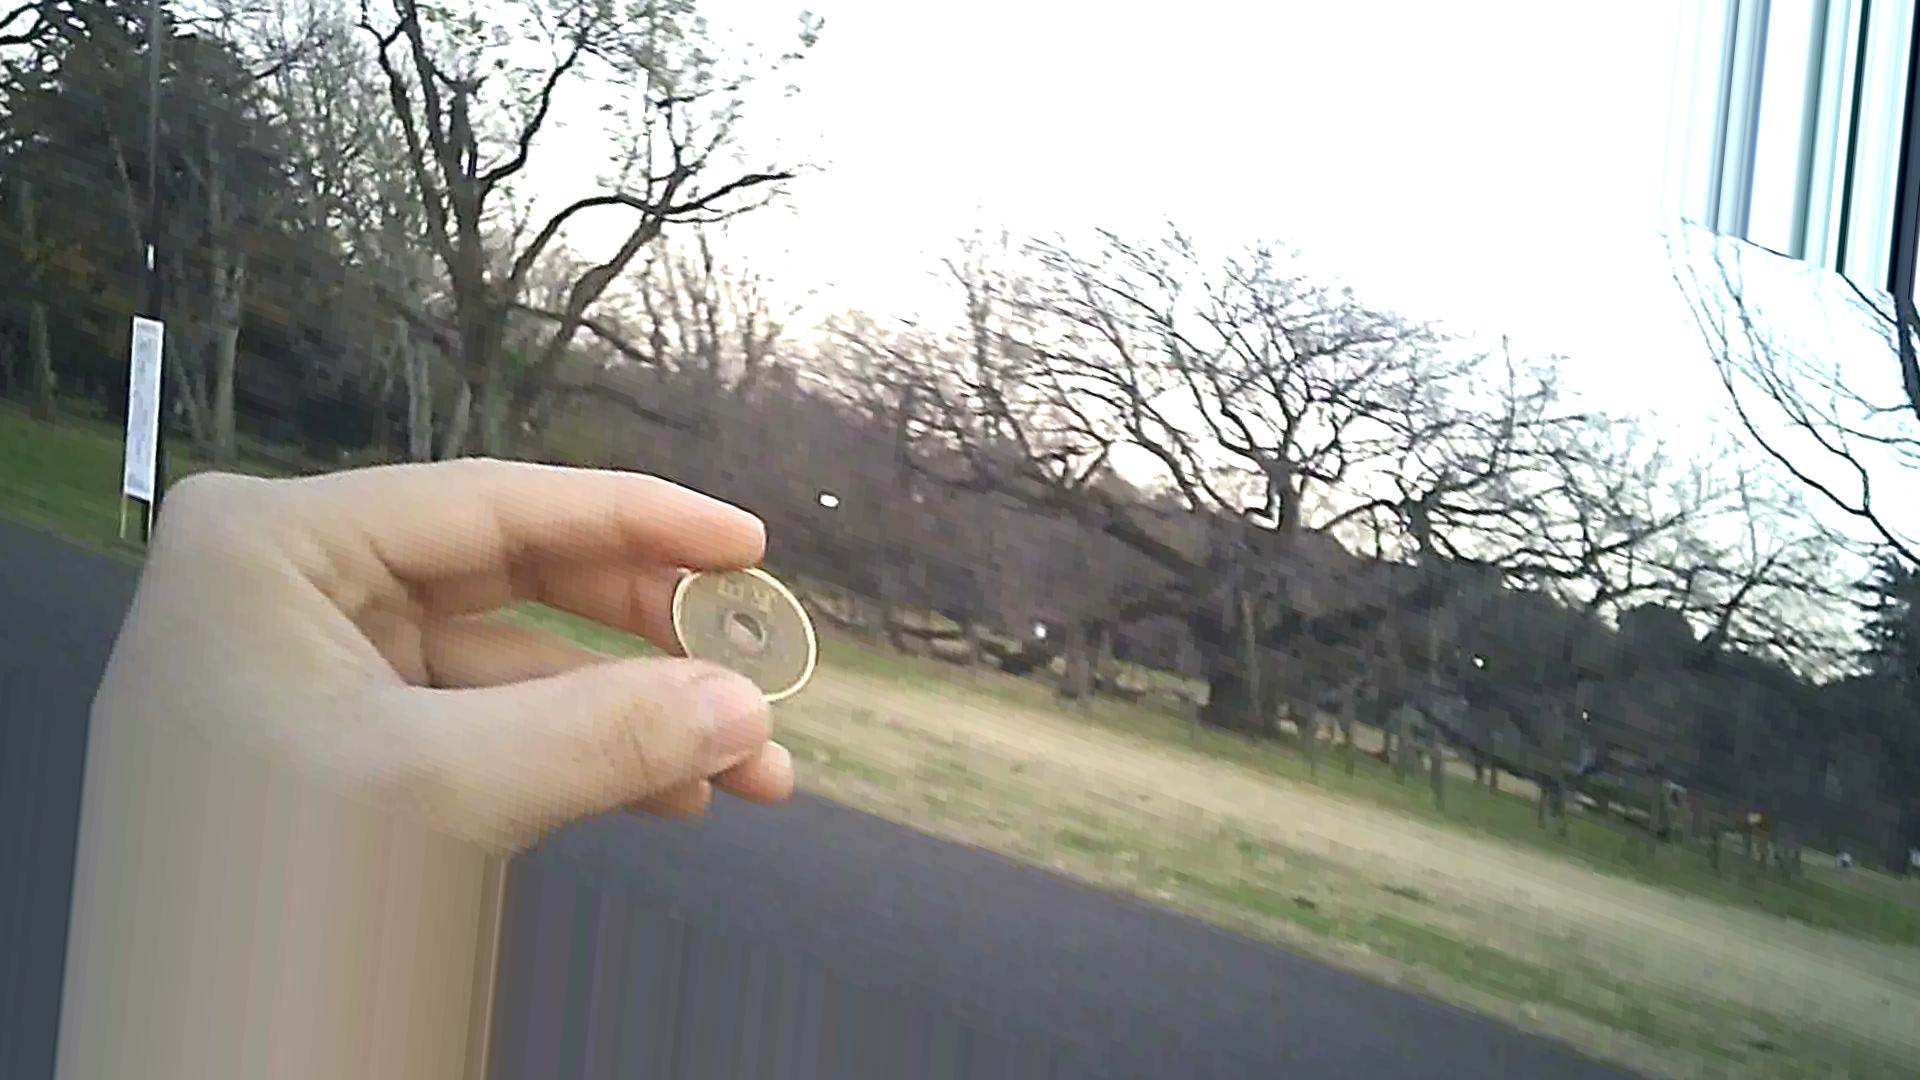5 Yen: (655, 543, 818, 725)
